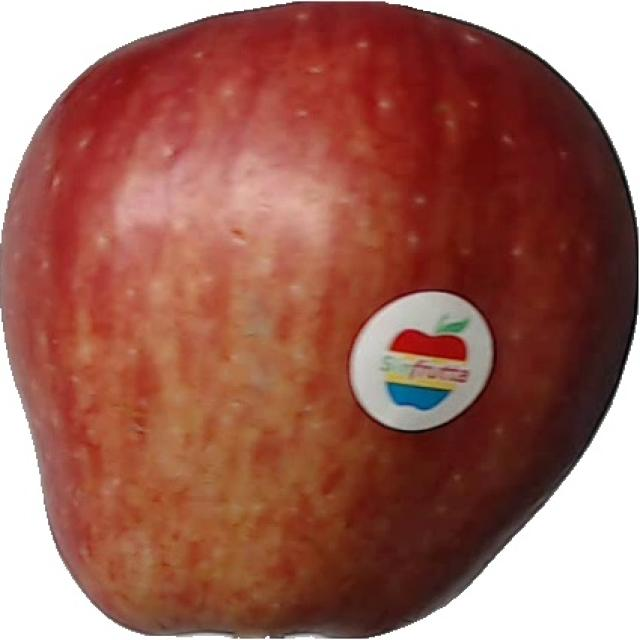apple: (0, 3, 638, 640)
